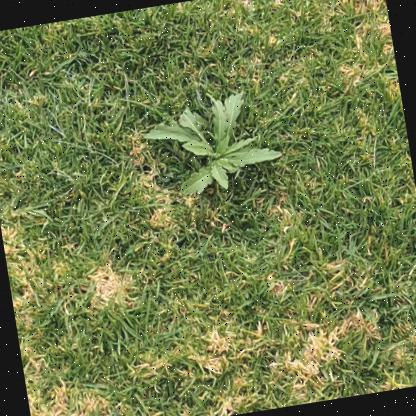Weeds: (139, 88, 286, 202)
